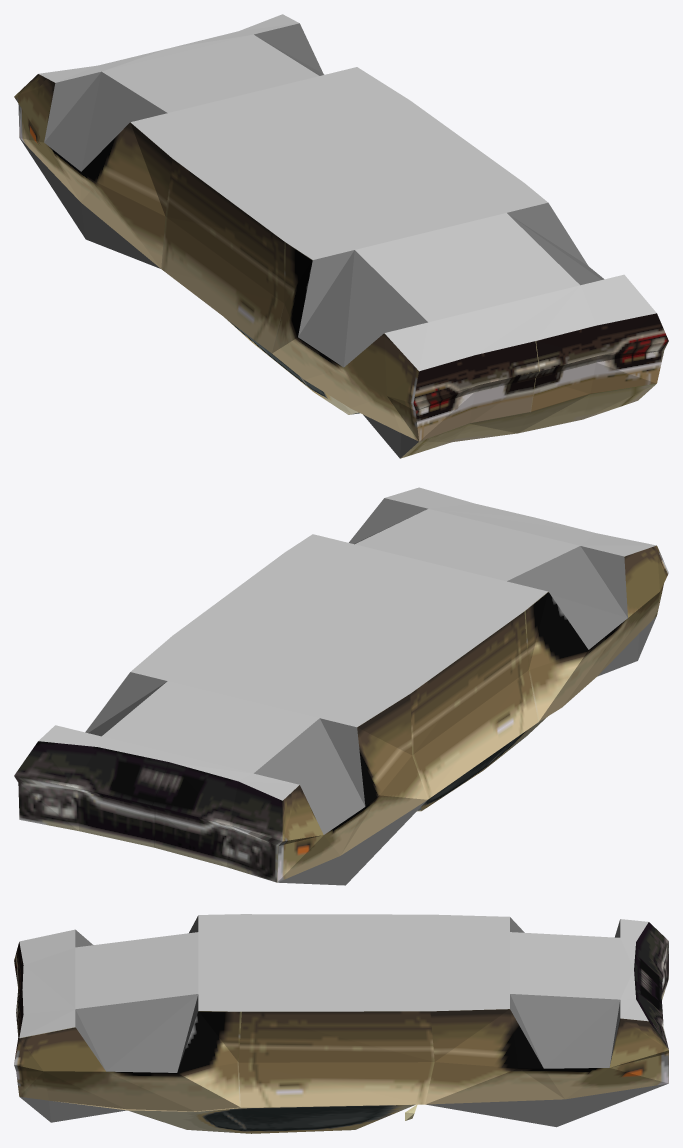
The model's file is VEGAS_model1_damaged.obj.
3 renders of one model, top to bottom at view 1: azimuth 30°, elevation 25°; view 2: azimuth 150°, elevation 25°; view 3: azimuth 270°, elevation 25°, orthographic. The views are drawn at different scales.
Parts seen in each view (by area): view 1: VEGAS_model1_damaged; view 2: VEGAS_model1_damaged; view 3: VEGAS_model1_damaged.
Boxes of the visible parts, <box> form: VEGAS_model1_damaged: <box>14,14,668,458</box>; VEGAS_model1_damaged: <box>14,487,668,885</box>; VEGAS_model1_damaged: <box>14,914,668,1133</box>.
Size of the model in its own units: 264 by 148 by 618.
